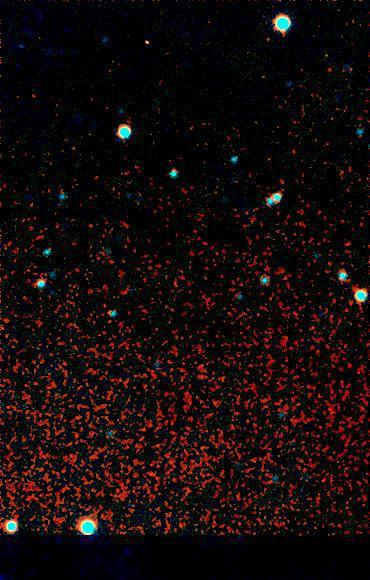star: (130, 19, 160, 49)
